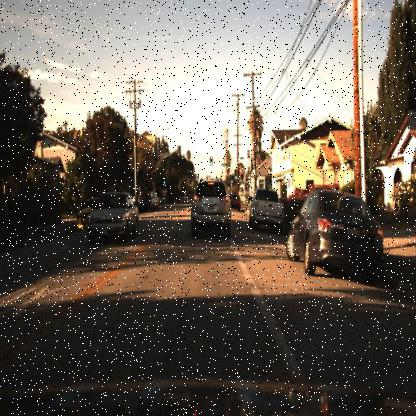car: (278, 177, 391, 291), (182, 172, 235, 246), (79, 188, 144, 248), (245, 184, 286, 231), (68, 198, 89, 235), (230, 187, 243, 217), (139, 188, 153, 214), (178, 188, 188, 206)
trafficLight-Green: (233, 166, 241, 182), (206, 158, 214, 170), (228, 175, 236, 187), (162, 176, 168, 190), (161, 176, 166, 190), (229, 175, 234, 188), (209, 156, 214, 168), (235, 173, 238, 184)
